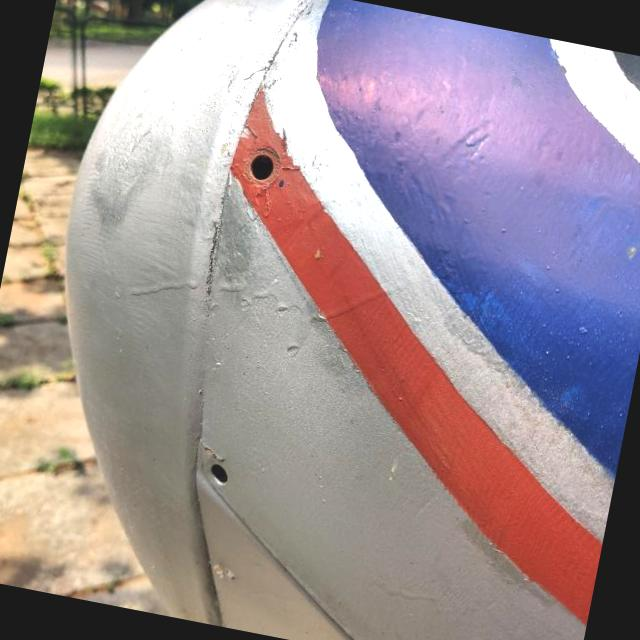Missing Fastener: (243, 146, 282, 187), (208, 463, 228, 484)
